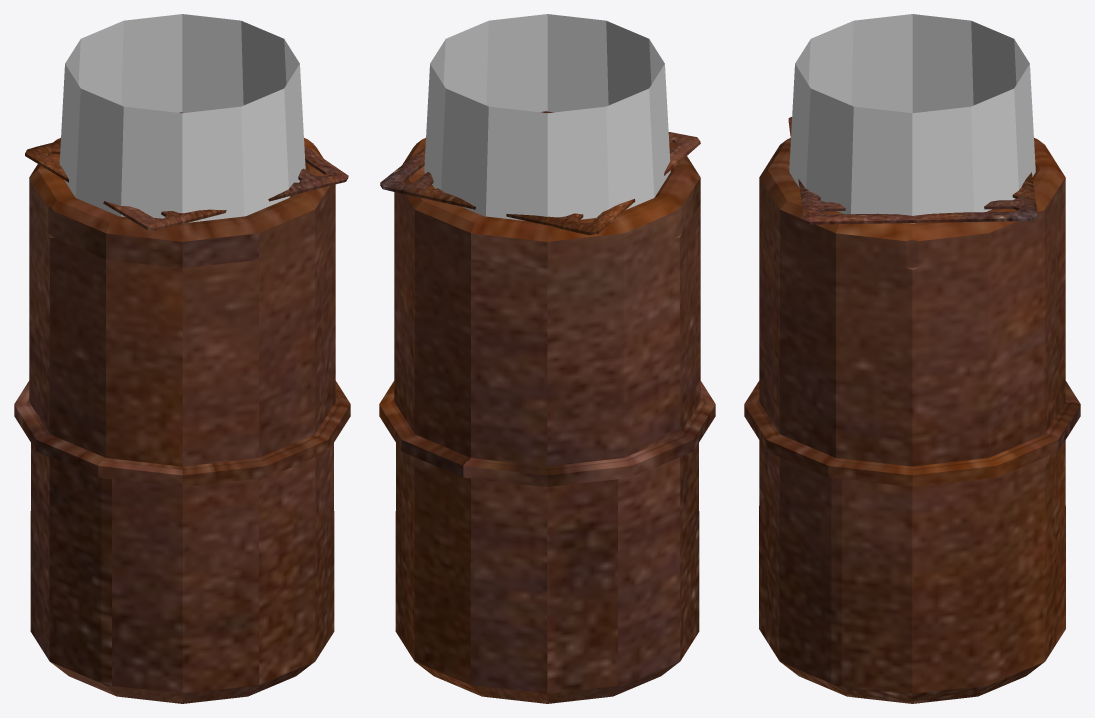
File: Barrel.fbx
3 renders of one model, left to right at view 1: azimuth 30°, elevation 25°; view 2: azimuth 150°, elevation 25°; view 3: azimuth 270°, elevation 25°, orthographic.
Visible parts, largest first — view 1: BarrelLid, Cylinder; view 2: BarrelLid, Cylinder; view 3: BarrelLid, Cylinder.
Boxes of the visible parts, bbox=[...] form: BarrelLid: bbox=[14, 112, 350, 703]; Cylinder: bbox=[59, 14, 305, 222]; BarrelLid: bbox=[379, 111, 715, 703]; Cylinder: bbox=[424, 14, 670, 220]; BarrelLid: bbox=[744, 117, 1080, 703]; Cylinder: bbox=[789, 14, 1035, 223].
Bounding box in the file's own units: 72.48 × 139 × 72.48.
Materials: 2 (1 with a texture image).
